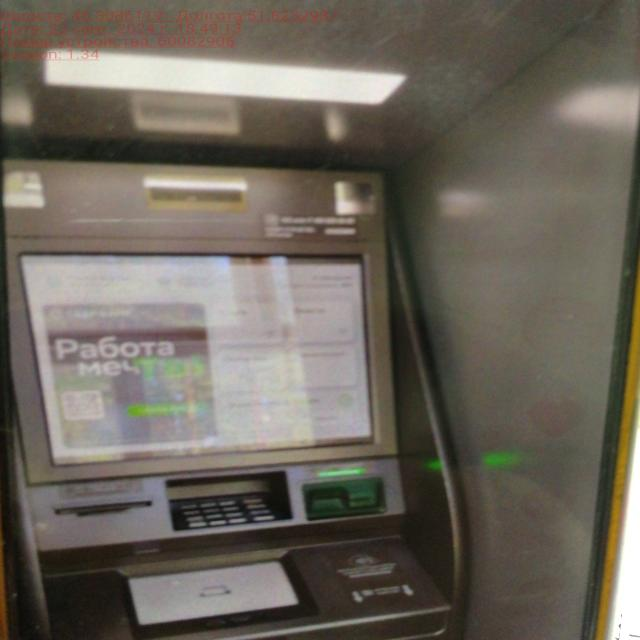bank: (0, 111, 538, 640)
